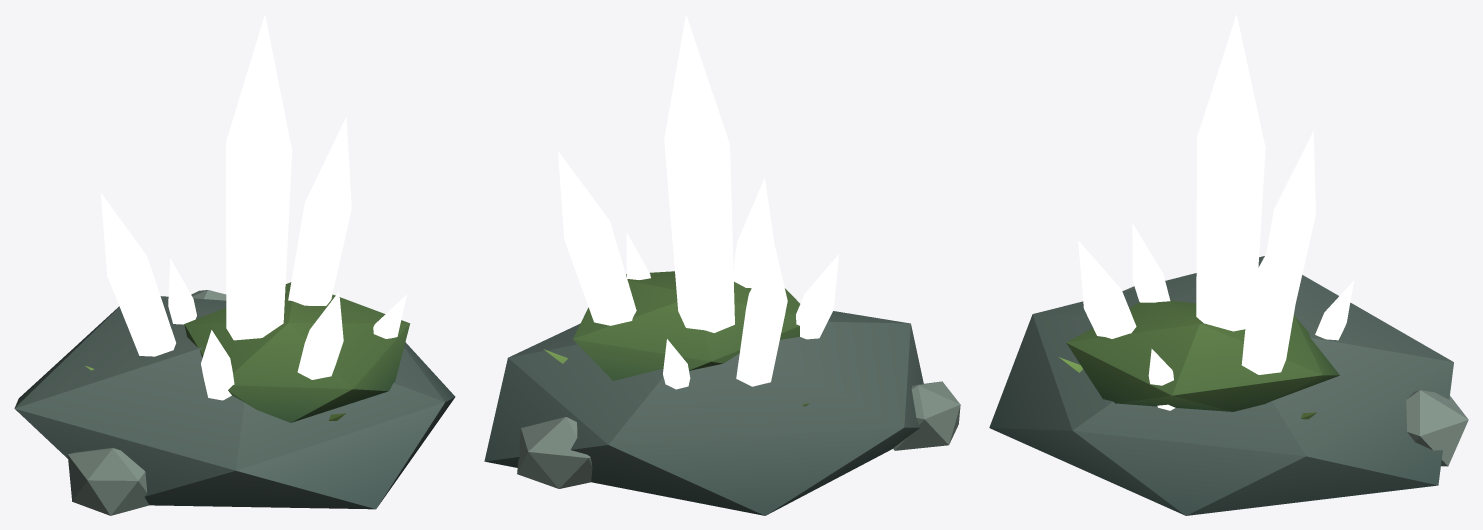
File: crystal-cluster-s.glb
3 views of the same model, side by side, from view 1: azimuth 30°, elevation 25°; view 2: azimuth 150°, elevation 25°; view 3: azimuth 270°, elevation 25° (orthographic). The views are drawn at different scales.
Visible parts, largest first — view 1: gg_crystal_cluster_s; view 2: gg_crystal_cluster_s; view 3: gg_crystal_cluster_s.
Part boxes in pixels (<box>): gg_crystal_cluster_s: <box>14,14,455,515</box>; gg_crystal_cluster_s: <box>484,14,960,515</box>; gg_crystal_cluster_s: <box>989,14,1468,515</box>.
Size of the model in its own units: 1.01 by 0.9735 by 1.01.
